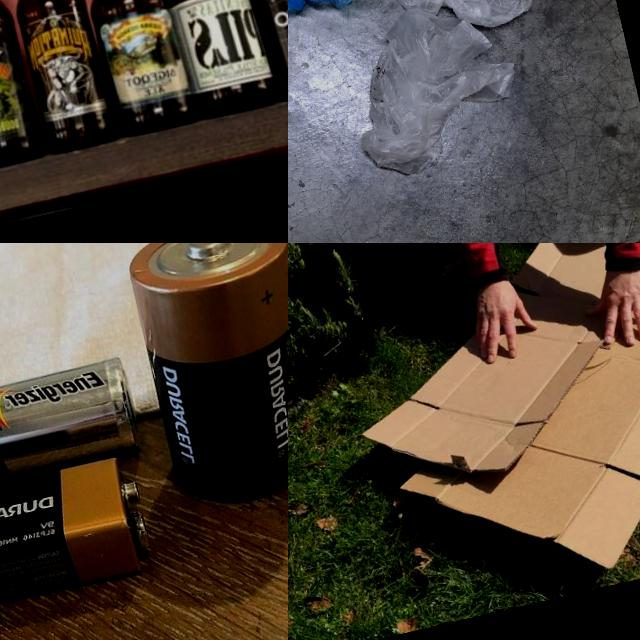bateria: (118, 243, 288, 515), (0, 451, 160, 619), (0, 355, 144, 492)
garrafa de vidro: (0, 0, 117, 155), (67, 0, 196, 137), (142, 0, 279, 122), (207, 0, 288, 106), (0, 0, 47, 172)
papelão: (323, 243, 640, 618)
sacola plástica: (335, 0, 534, 186), (365, 0, 557, 43)
